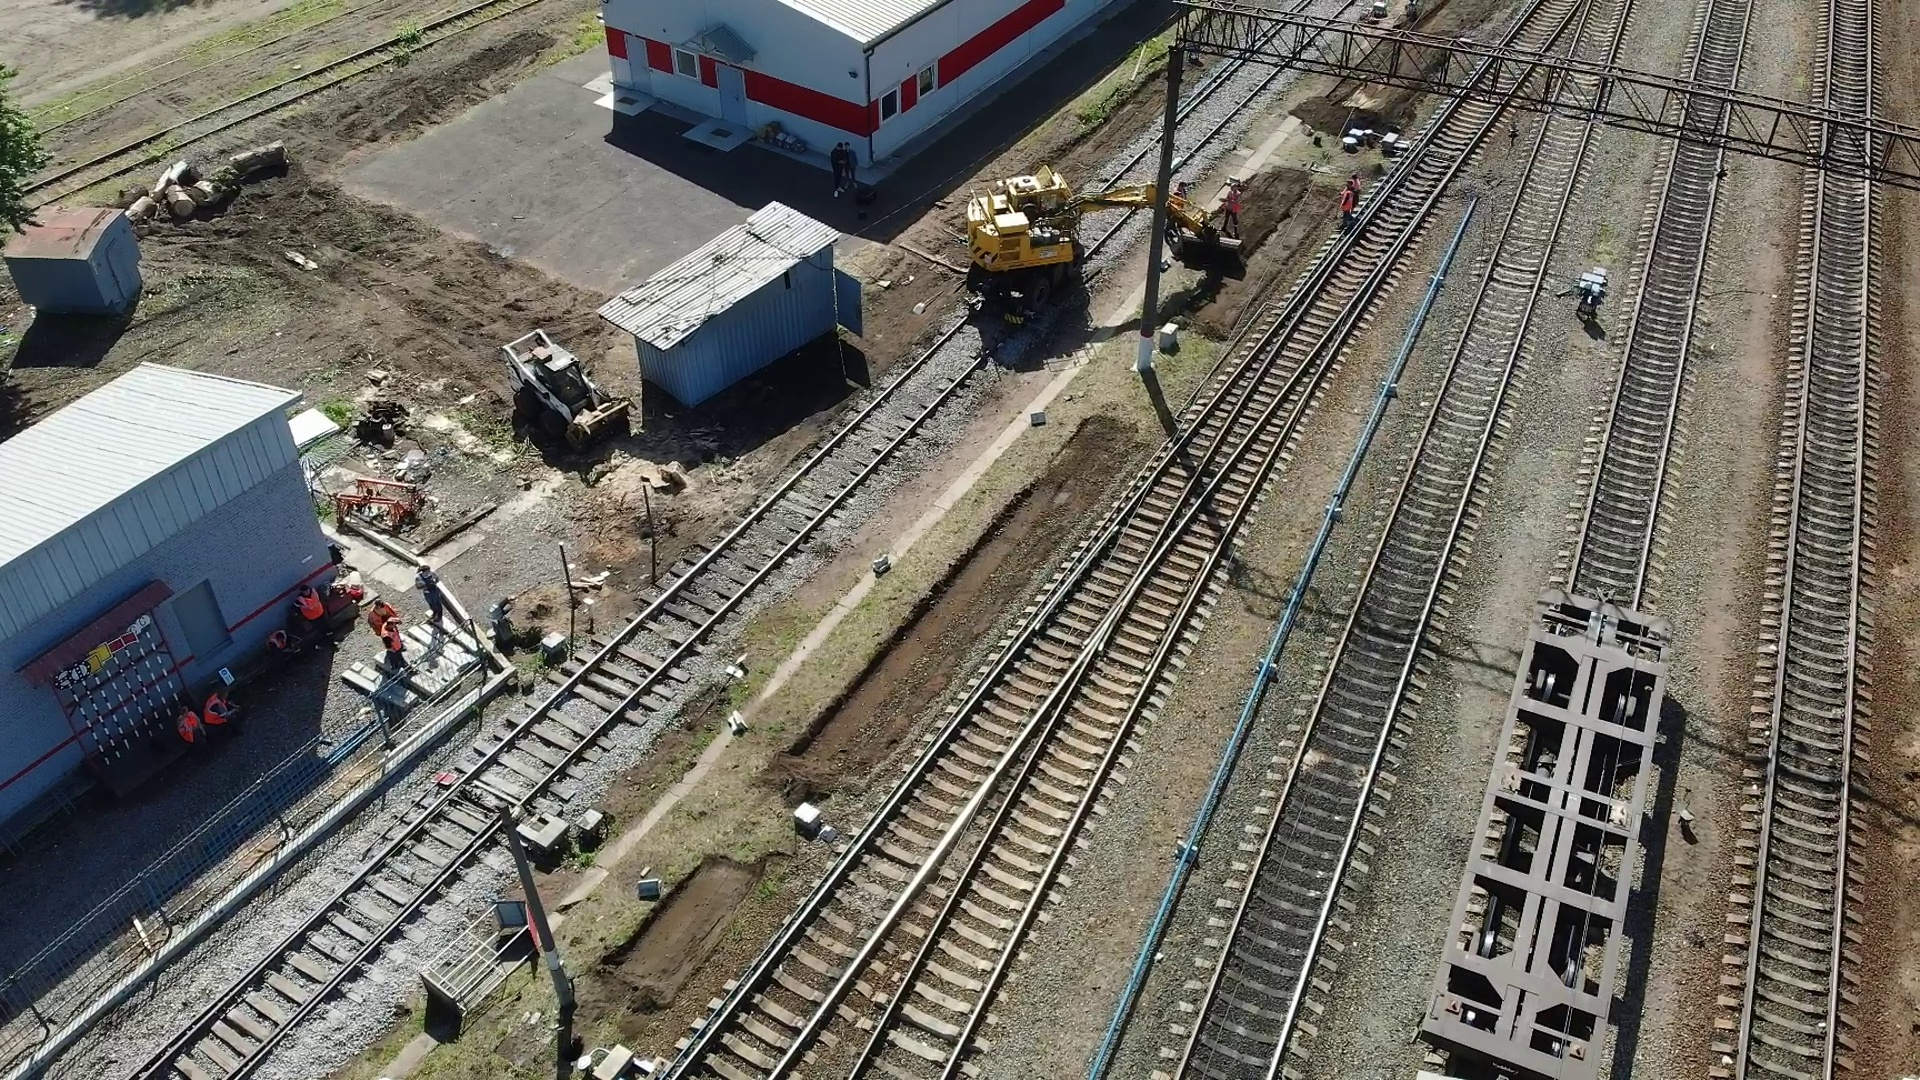kjtv: (960, 161, 1160, 303)
